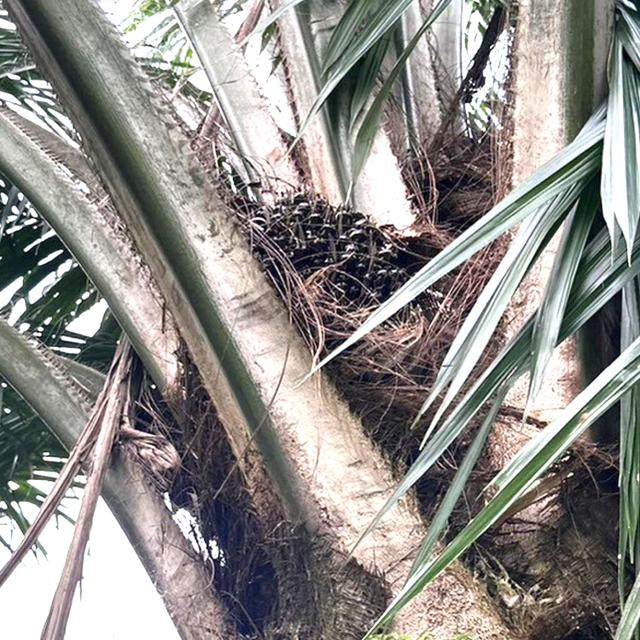unripe: (172, 182, 446, 450)
